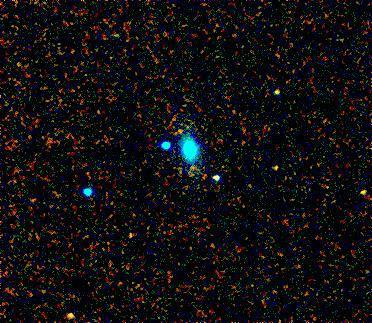star: (57, 299, 87, 323)
